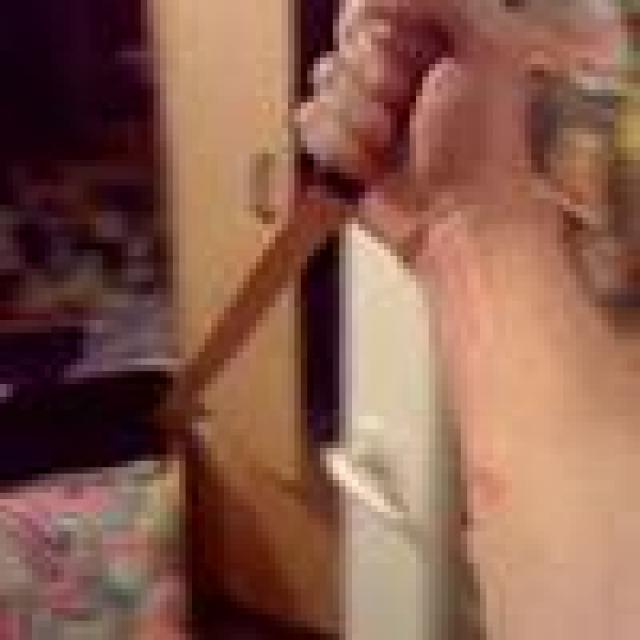Knife: (102, 38, 429, 448)
